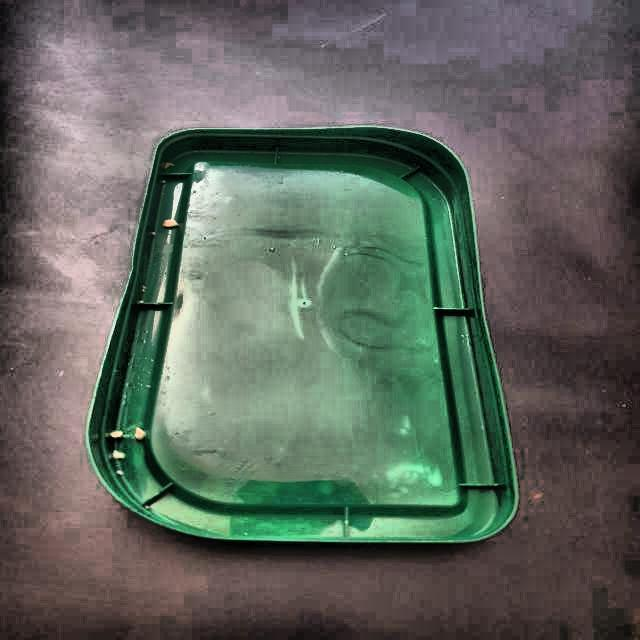plastic: (85, 127, 520, 549)
